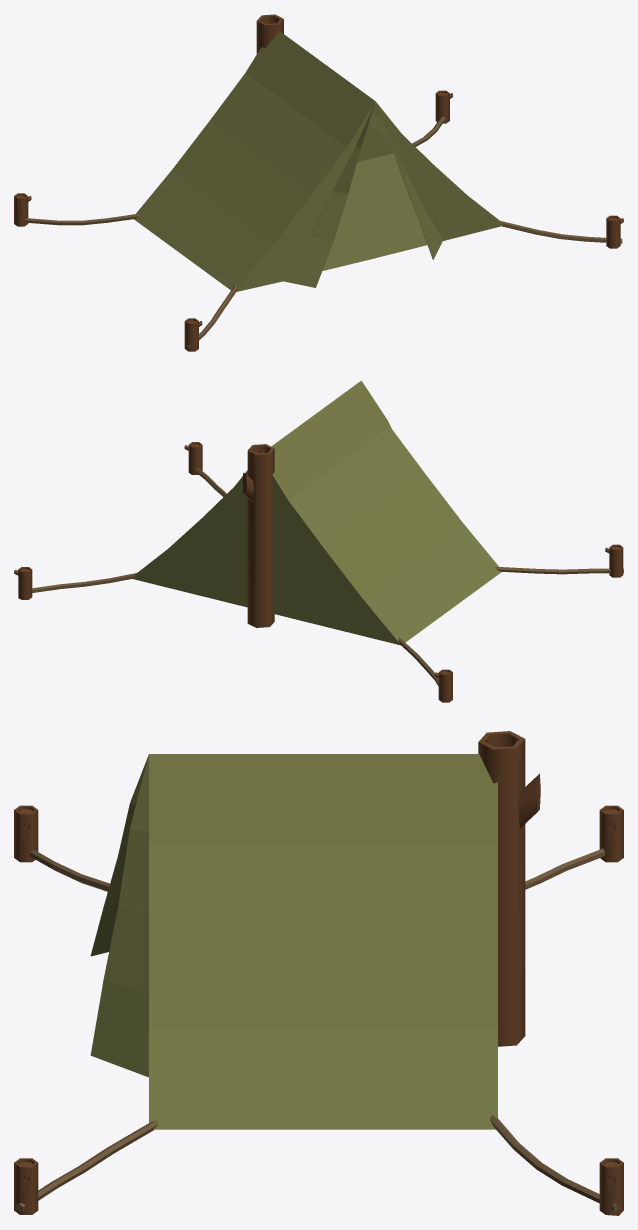
Rendered from Tent.fbx.
The picture shows the model from 3 angles, top to bottom: view 1: azimuth 30°, elevation 25°; view 2: azimuth 150°, elevation 25°; view 3: azimuth 270°, elevation 25°; orthographic projection. The views are drawn at different scales.
Parts seen in each view (by area): view 1: tent.002; view 2: tent.002; view 3: tent.002.
Boxes of the visible parts, x1=… form: tent.002: x1=14, y1=14, x2=623, y2=351; tent.002: x1=14, y1=380, x2=623, y2=702; tent.002: x1=14, y1=731, x2=623, y2=1215.
Bounding box in the file's own units: 4.84 × 1.85 × 3.4.
